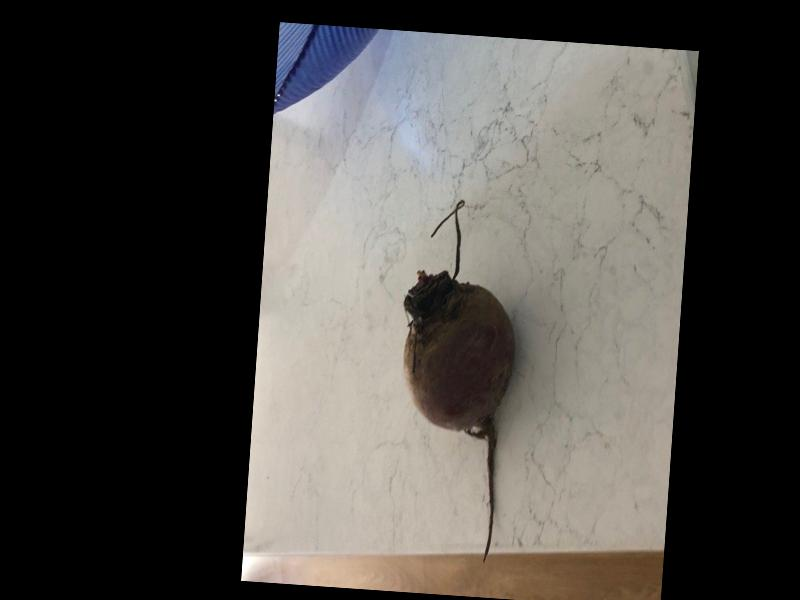Beet: (388, 197, 524, 567)
